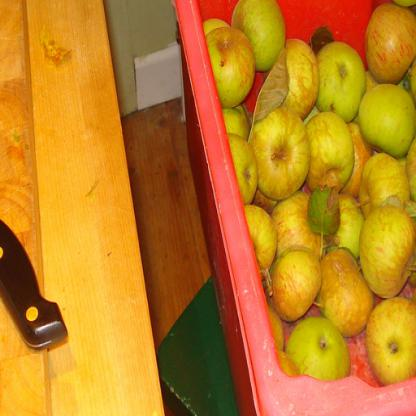knife: (0, 0, 75, 359)
